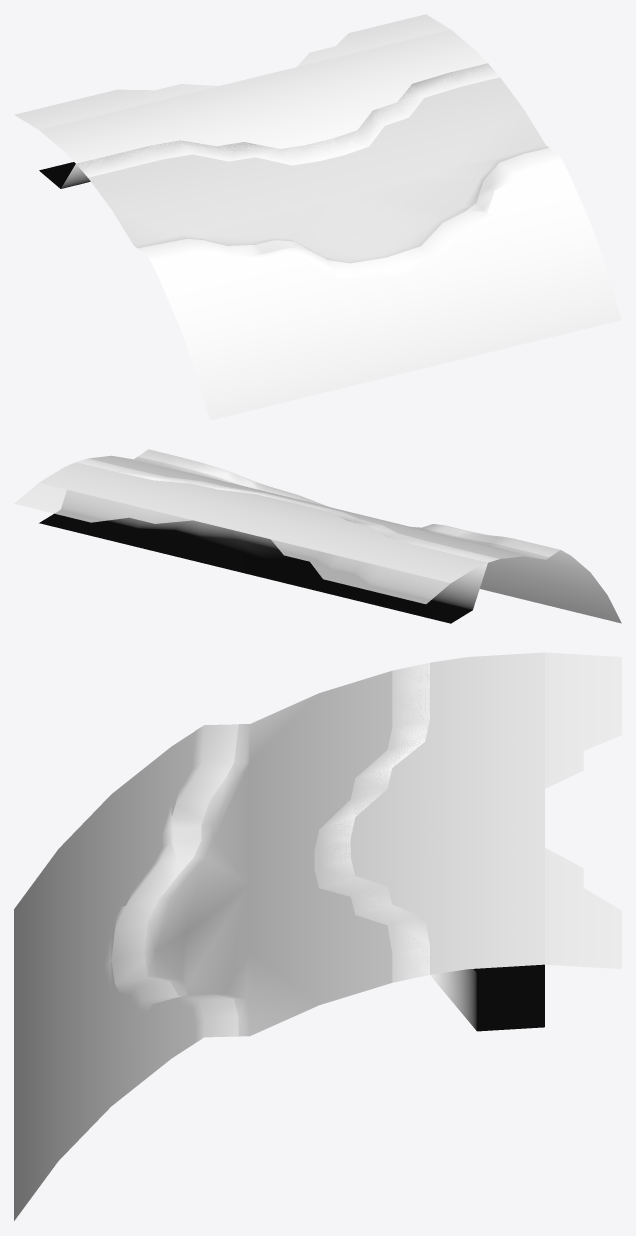
File: grd_In_1.dae
3 views of the same model, one above another, from view 1: azimuth 30°, elevation 25°; view 2: azimuth 150°, elevation 25°; view 3: azimuth 270°, elevation 25° (orthographic). The views are drawn at different scales.
Visible parts, largest first — view 1: grass_3_0, beach_0_0, ocean_4_0, wave_5_0, beach_1_0, beach_cliff_2_0; view 2: beach_1_0, ocean_4_0, wave_5_0, grass_3_0, beach_0_0, beach_cliff_2_0; view 3: beach_0_0, ocean_4_0, grass_3_0, wave_5_0, beach_1_0, beach_cliff_2_0.
Part boxes in pixels (box(x1,y1,x2,y2)): grass_3_0: box(149, 162, 621, 420); beach_0_0: box(88, 77, 549, 263); ocean_4_0: box(39, 30, 487, 176); wave_5_0: box(14, 14, 498, 165); beach_1_0: box(39, 63, 499, 188); beach_cliff_2_0: box(137, 148, 563, 280); beach_1_0: box(39, 458, 499, 623); ocean_4_0: box(40, 462, 492, 583); wave_5_0: box(14, 459, 485, 604); grass_3_0: box(479, 550, 621, 623); beach_0_0: box(88, 455, 549, 559); beach_cliff_2_0: box(138, 449, 560, 556); beach_0_0: box(144, 671, 392, 1036); ocean_4_0: box(314, 652, 544, 974); grass_3_0: box(14, 731, 199, 1220); wave_5_0: box(358, 652, 621, 980); beach_1_0: box(314, 662, 544, 1031); beach_cliff_2_0: box(104, 724, 240, 1042).
Size of the model in its own units: 512 by 196 by 421.
6 materials, 1 textured.
